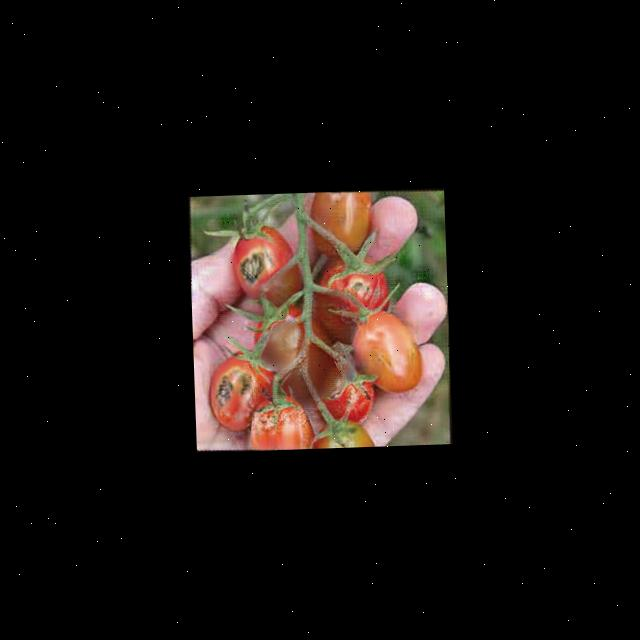tomato: (316, 256, 389, 337), (232, 224, 300, 307), (206, 352, 276, 432), (312, 361, 378, 424), (246, 398, 310, 450)
